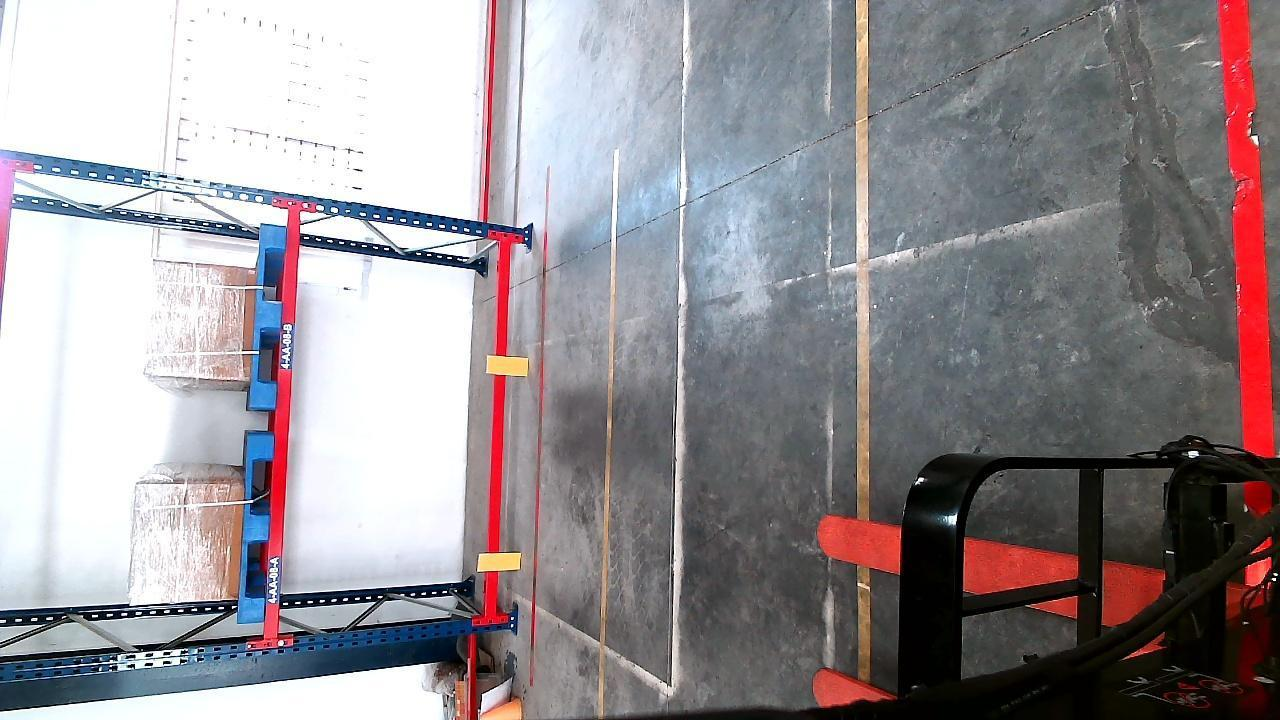h_rack: (261, 200, 303, 640), (487, 242, 510, 620)
orange_strip: (480, 550, 524, 573), (492, 352, 531, 377)
red_line: (524, 166, 555, 684)
small_pallet: (253, 229, 286, 416), (240, 446, 275, 615)
yellow_line: (852, 0, 874, 687), (595, 165, 620, 720)
